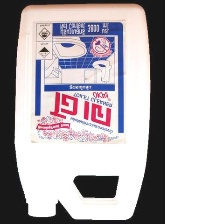cleaning_solution: (12, 0, 153, 220)
